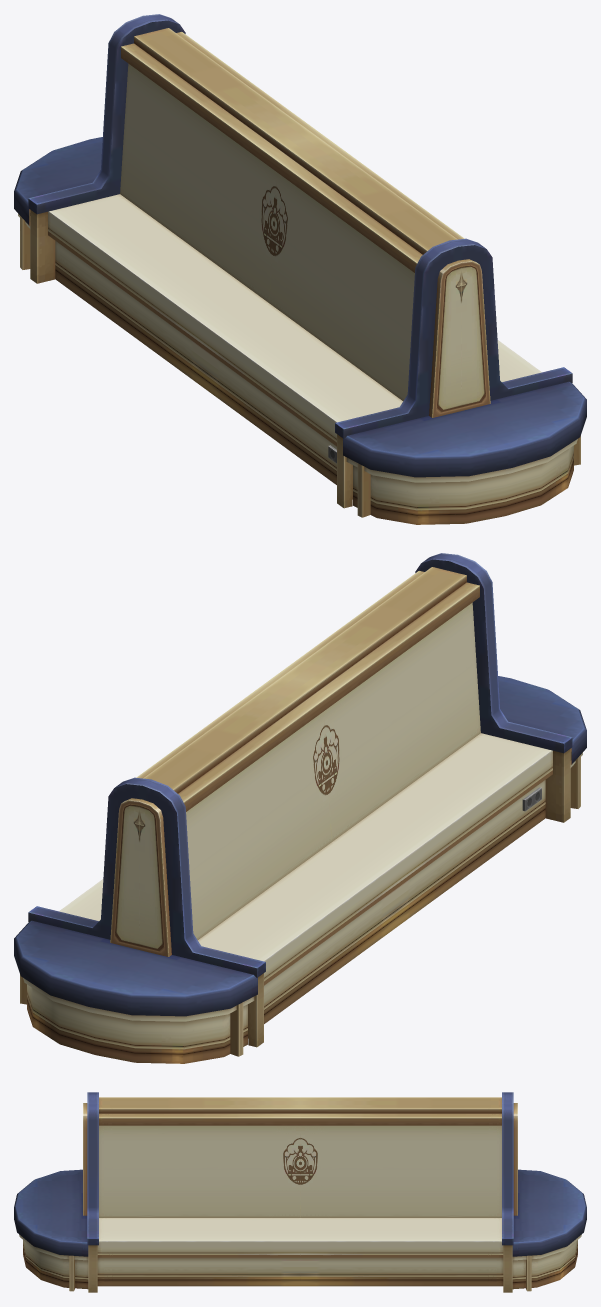
File: my_highlander_01_bench_01.glb
The picture shows the model from 3 angles, top to bottom: view 1: azimuth 30°, elevation 25°; view 2: azimuth 150°, elevation 25°; view 3: azimuth 270°, elevation 25°; orthographic projection. The views are drawn at different scales.
Parts seen in each view (by area): view 1: my_highlander_01_bench_01; view 2: my_highlander_01_bench_01; view 3: my_highlander_01_bench_01.
Part boxes in pixels (x1,y1,x2,y2): my_highlander_01_bench_01: [14, 14, 586, 524]; my_highlander_01_bench_01: [14, 553, 586, 1063]; my_highlander_01_bench_01: [14, 1092, 586, 1292].
Bounding box in the file's own units: 0.00807 × 0.0079 × 0.0259.
1 material, 1 textured.
